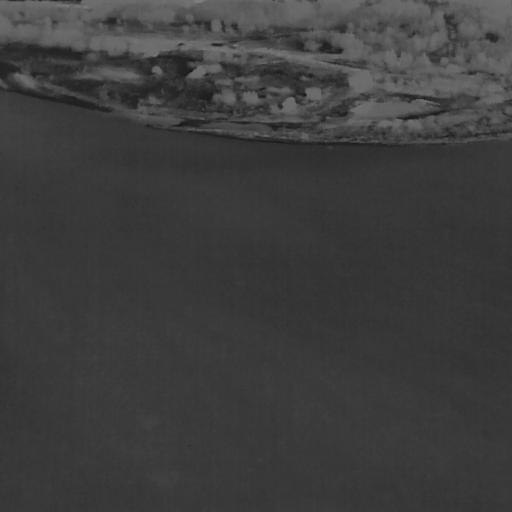uav: (345, 270, 352, 279)
